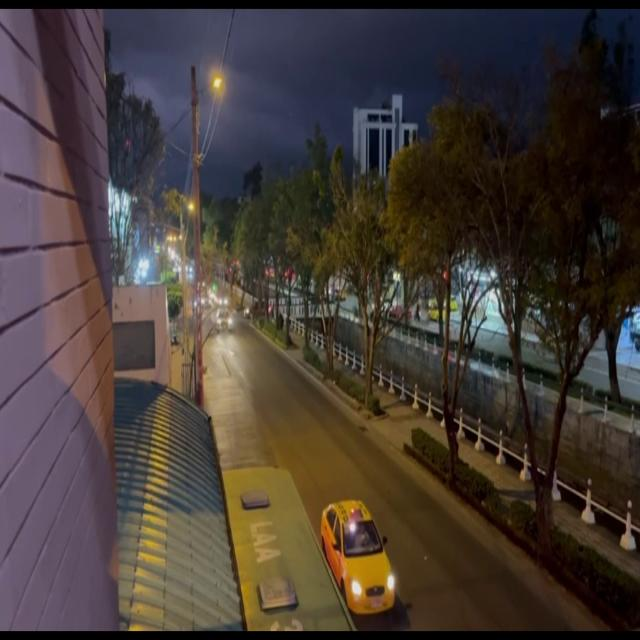BUS: (226, 472, 335, 638)
